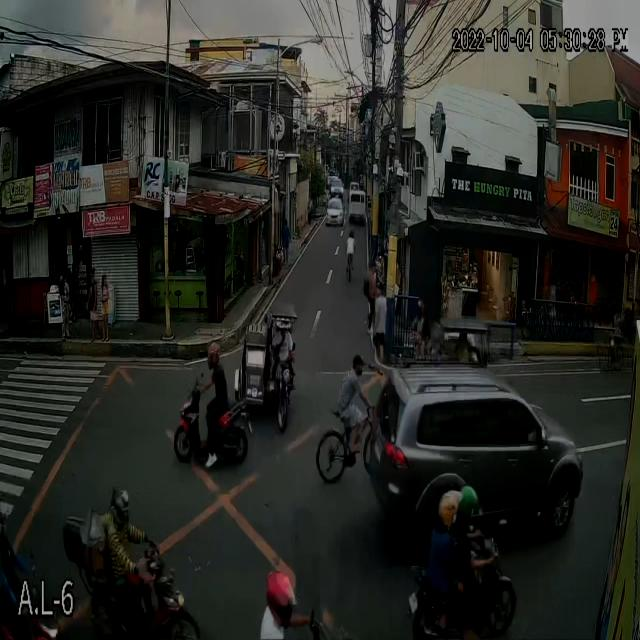Full-Faced: (261, 575, 303, 615), (107, 490, 133, 530), (434, 494, 462, 528), (206, 345, 224, 367)
Half-Faced: (463, 484, 480, 528)
Invalid: (351, 354, 368, 377)
